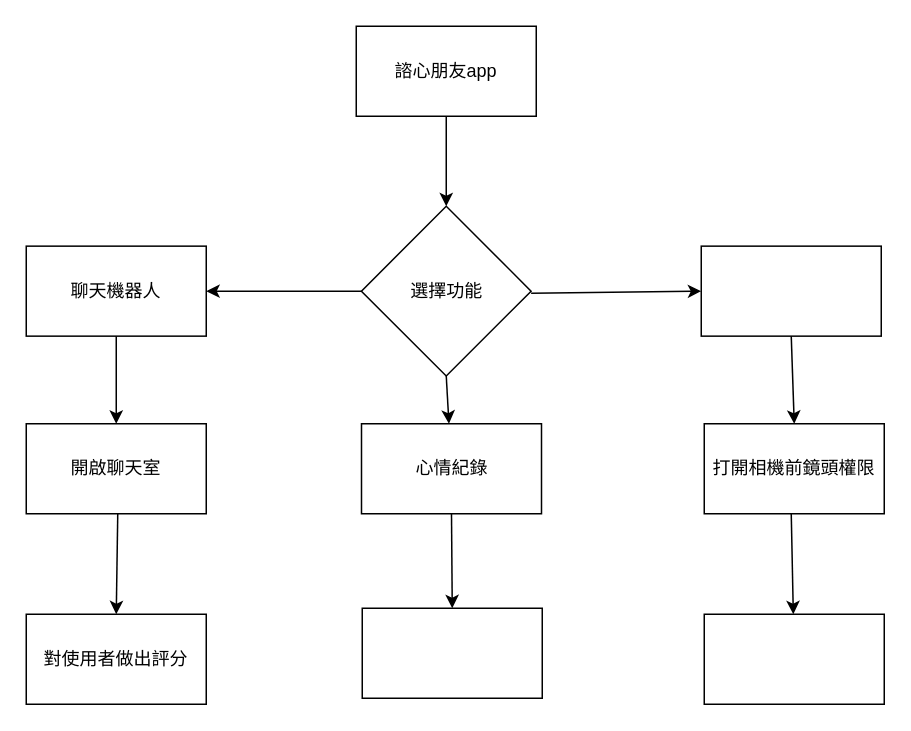
This 911x731 diagram has some shape labels left out. The centre of each missing label's shape, as x and y in pixels:
"人臉辨識" belongs at (790,290).
"進行辨識" belongs at (793,658).
"選擇貼圖" belongs at (451,652).
